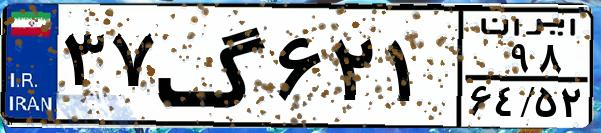1: (385, 28, 445, 110)
2: (330, 28, 385, 110), (560, 70, 590, 125)
3: (57, 26, 110, 100)
4: (495, 70, 520, 125)
5: (535, 70, 560, 125)
6: (270, 28, 330, 110), (470, 70, 495, 125)
7: (110, 28, 156, 98)
8: (537, 27, 568, 80)
9: (508, 27, 537, 80)
گ: (156, 12, 270, 120)
